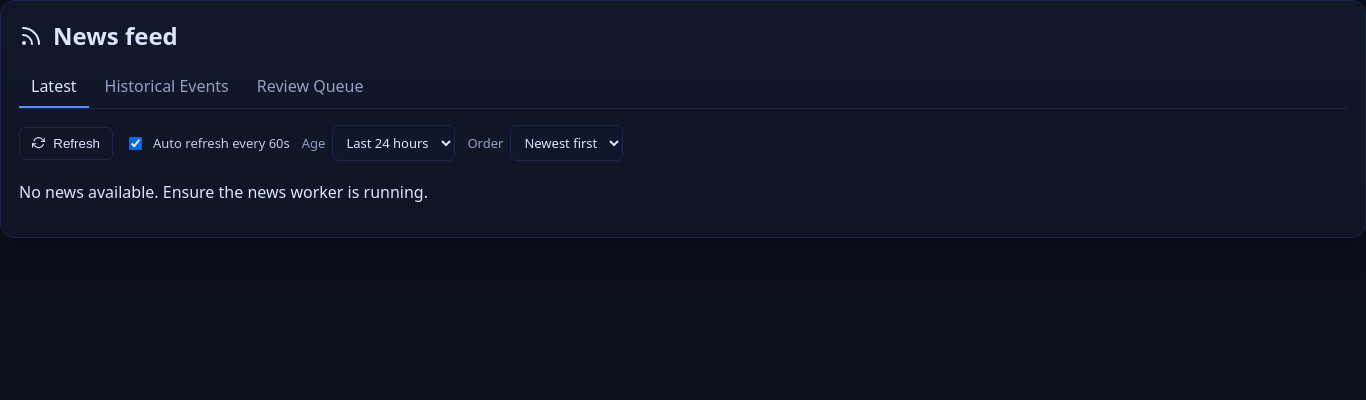
Test case: NewsFeed › refreshes news when the refresh button is clicked
The image size is (1366, 400).
Expected: the text "No news available. Ensure the news worker is running." is shown, [19, 181, 428, 203]
Click the button "Refresh".
click(66, 143)  # box [19, 126, 113, 160]
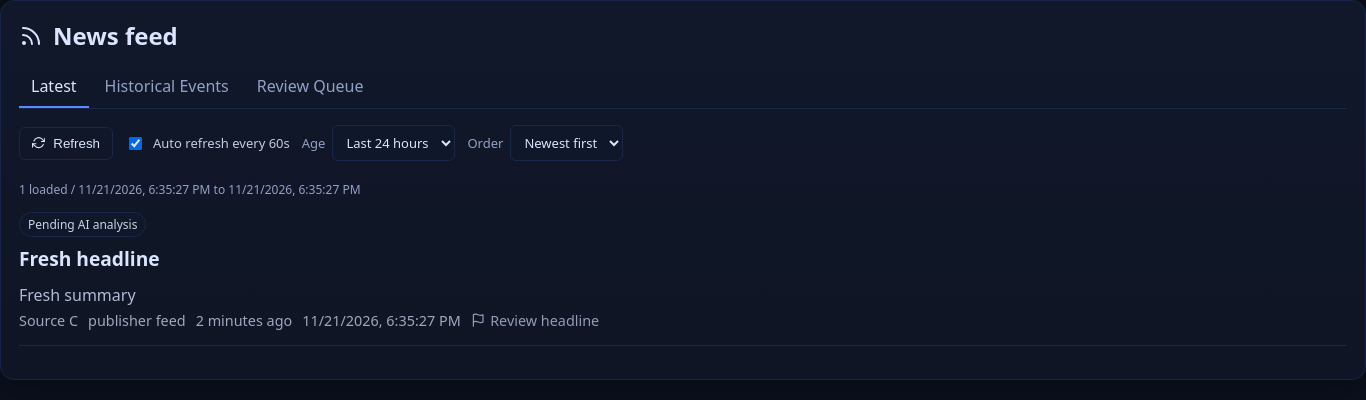
Now the heading "Fresh headline" is shown, box [19, 245, 160, 272]
